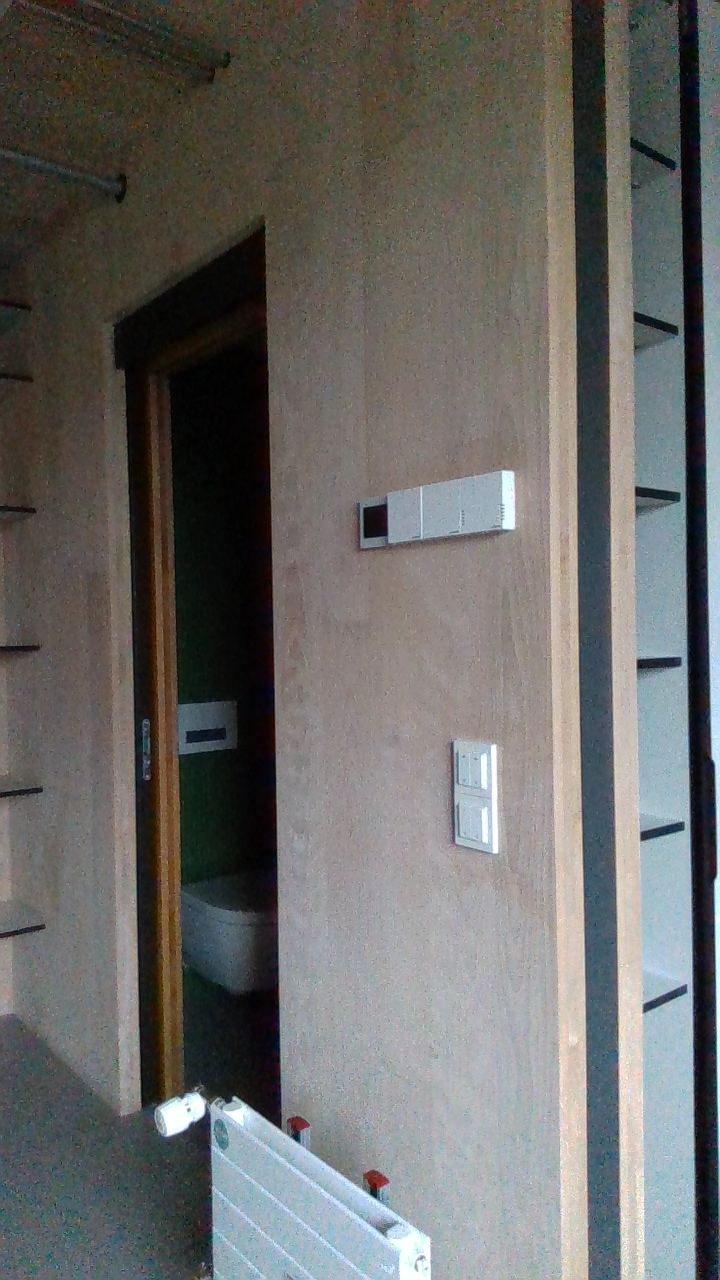Knob_Radiator: (147, 1081, 211, 1141)
Light_Switch: (455, 791, 493, 851), (453, 742, 493, 795)
Radiator: (203, 1095, 437, 1280)
